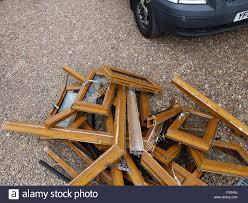wood: (2, 117, 114, 147), (166, 105, 220, 153), (98, 62, 169, 97), (123, 87, 144, 156)
